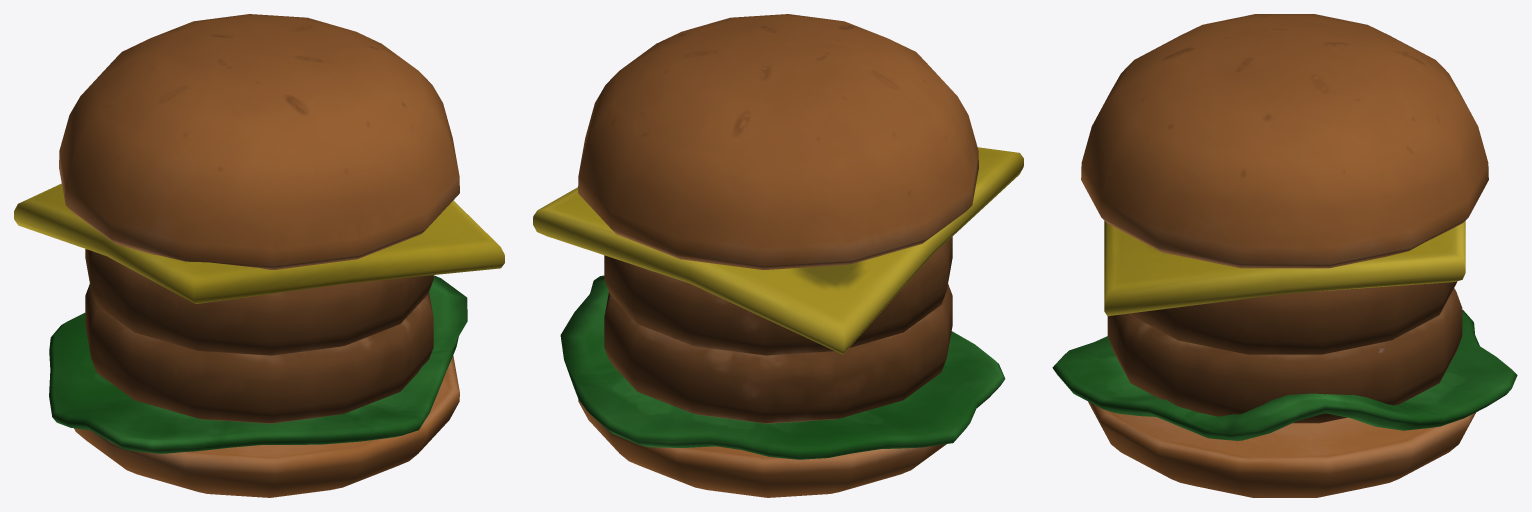
File: MSH_Hamburguesa_P_2C_L_Q.fbx
3 renders of one model, left to right at view 1: azimuth 30°, elevation 25°; view 2: azimuth 150°, elevation 25°; view 3: azimuth 270°, elevation 25°, orthographic.
Parts seen in each view (by area): view 1: MSH_Hamburguesa_P_2C_L_Q; view 2: MSH_Hamburguesa_P_2C_L_Q; view 3: MSH_Hamburguesa_P_2C_L_Q.
Part boxes in pixels (box(x1,y1,x2,y2)): MSH_Hamburguesa_P_2C_L_Q: box(14, 14, 504, 497); MSH_Hamburguesa_P_2C_L_Q: box(533, 14, 1023, 497); MSH_Hamburguesa_P_2C_L_Q: box(1052, 14, 1517, 497).
Bounding box in the file's own units: 16.25 × 16.87 × 15.82.
1 material, 1 textured.
